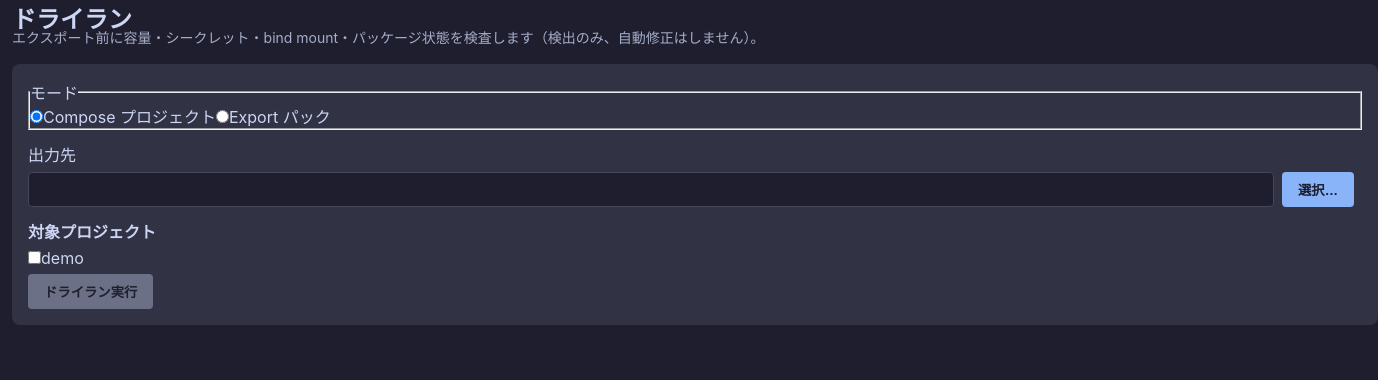
Test case: DryRunPage › IPC エラー表示
Expected: the text "demo" is shown, [28, 248, 84, 268]
Click the checkbox labelled "demo" at x=34, y=258, box [28, 251, 41, 264]
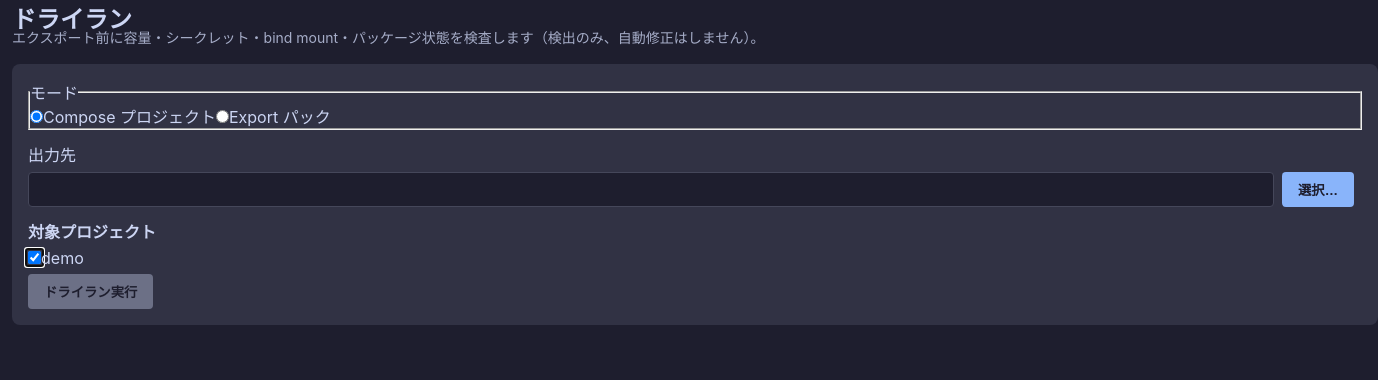
Type "/out" into the field at x=651, y=189, box [28, 172, 1274, 207]
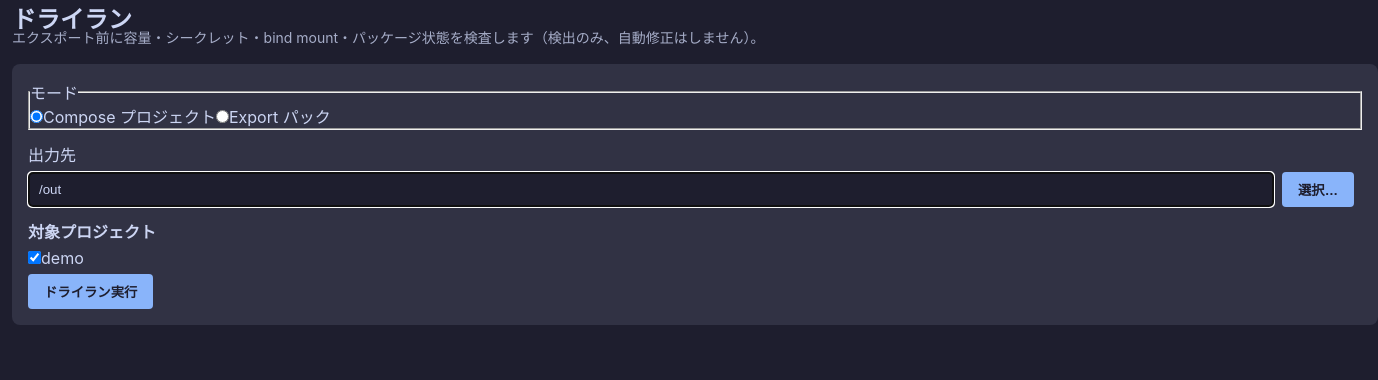
Click the button "ドライラン実行" at x=91, y=291, box [28, 274, 153, 309]
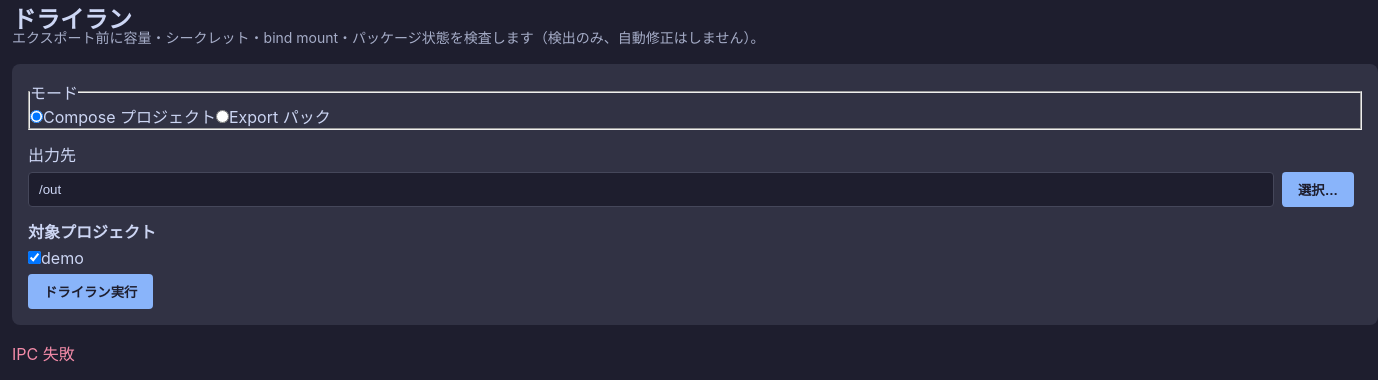
Now the text "IPC 失敗" is shown, box [12, 344, 75, 364]
